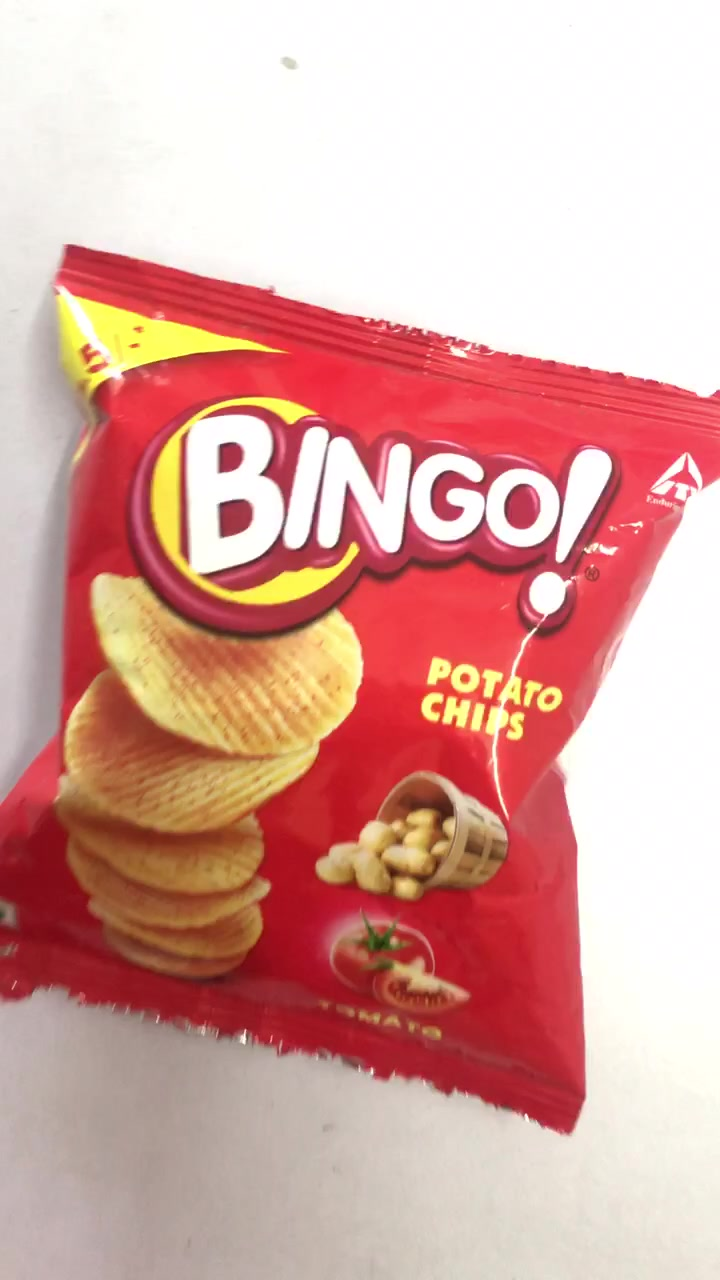Bingo: (6, 241, 720, 1134)
